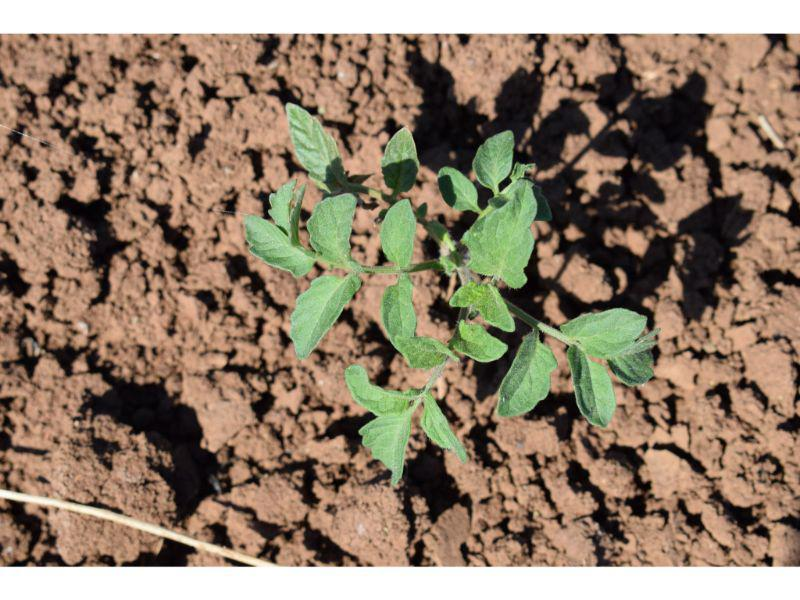tomato: (239, 102, 660, 486)
